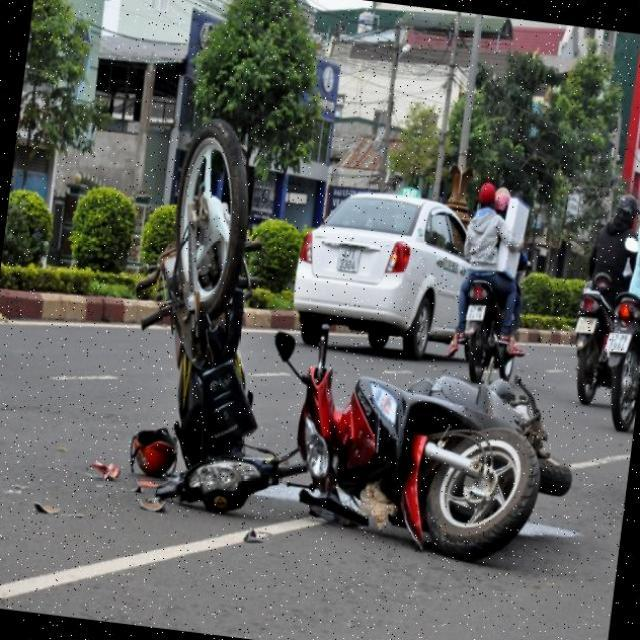accident: (54, 76, 635, 605)
